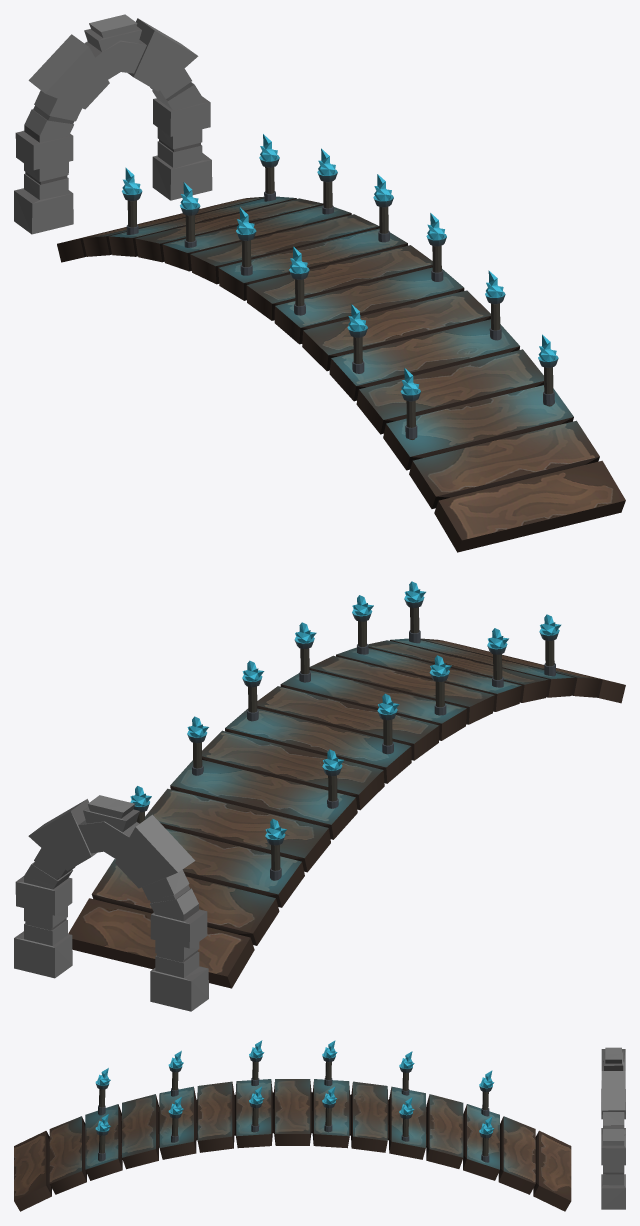
File: Arch.obj
3 renders of one model, top to bottom at view 1: azimuth 30°, elevation 25°; view 2: azimuth 150°, elevation 25°; view 3: azimuth 270°, elevation 25°, orthographic. The views are drawn at different scales.
Visible parts, largest first — view 1: ArchBridge; view 2: ArchBridge; view 3: ArchBridge.
Boxes of the visible parts, x1,y1,x2,y2 form: ArchBridge: (14,14,625,552); ArchBridge: (14,581,625,1011); ArchBridge: (14,1040,625,1211).
Size of the model in its own units: 13.96 by 14.22 by 59.6.
